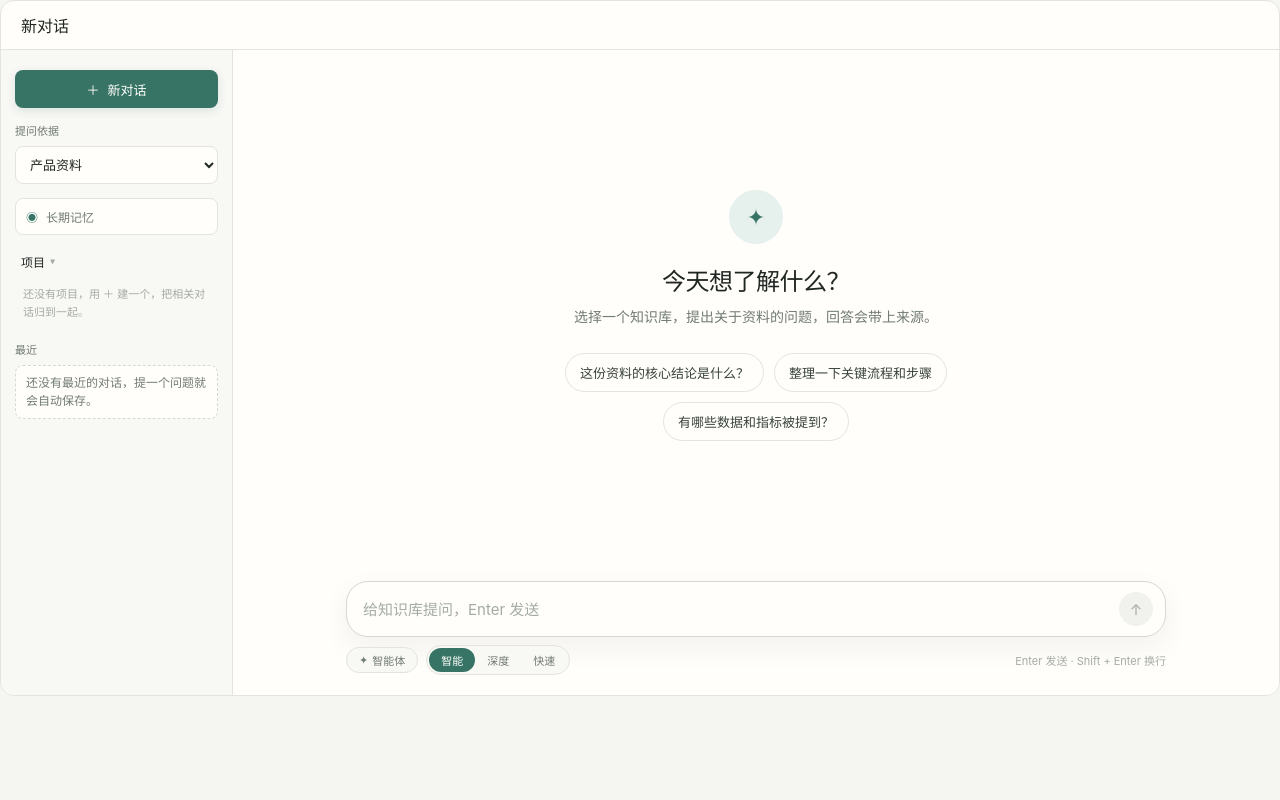
ChatView › sends agent mode and keeps the tool trace answer grounded
Click the button with class "composer__agent" at (382, 660), box [346,647,418,673]
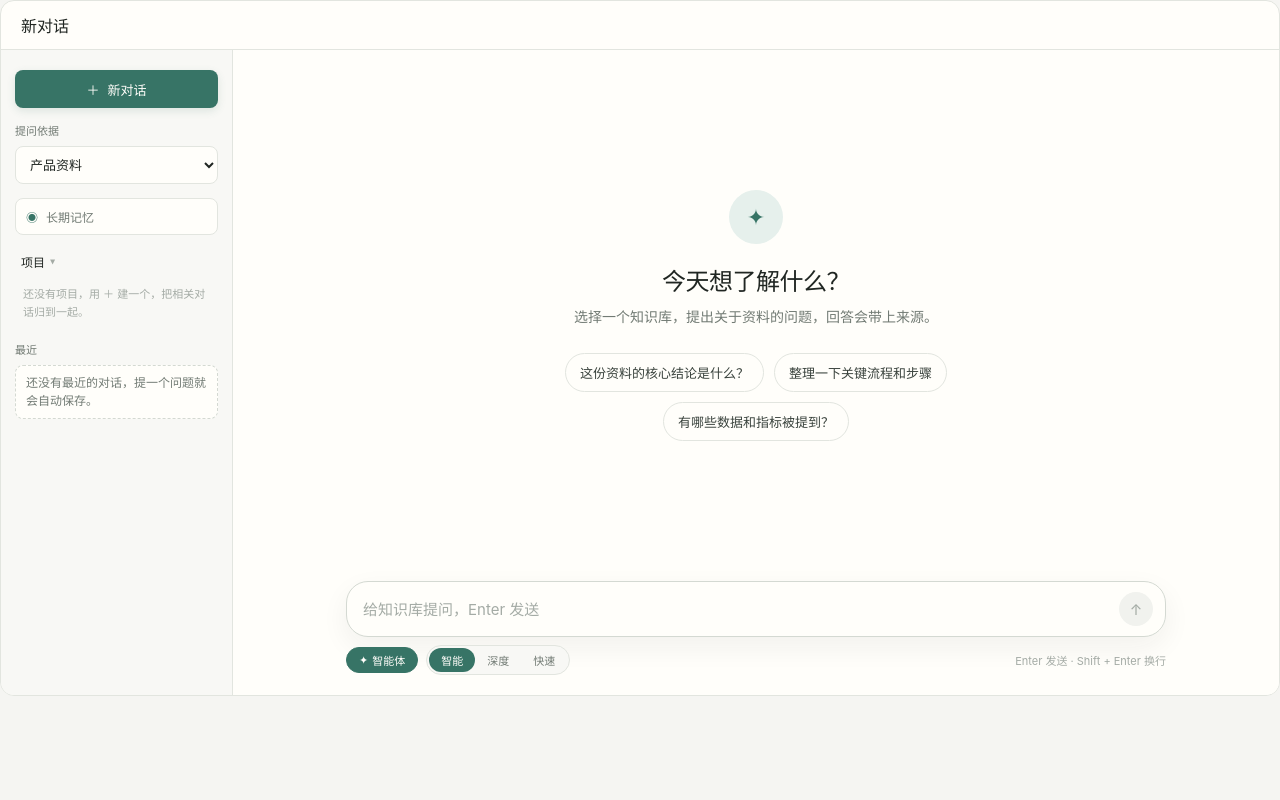
Type "各国 GDP 增长率是多少？" into the text box with placeholder "给知识库提问，Enter 发送" at (736, 609), box [363,592,1109,626]
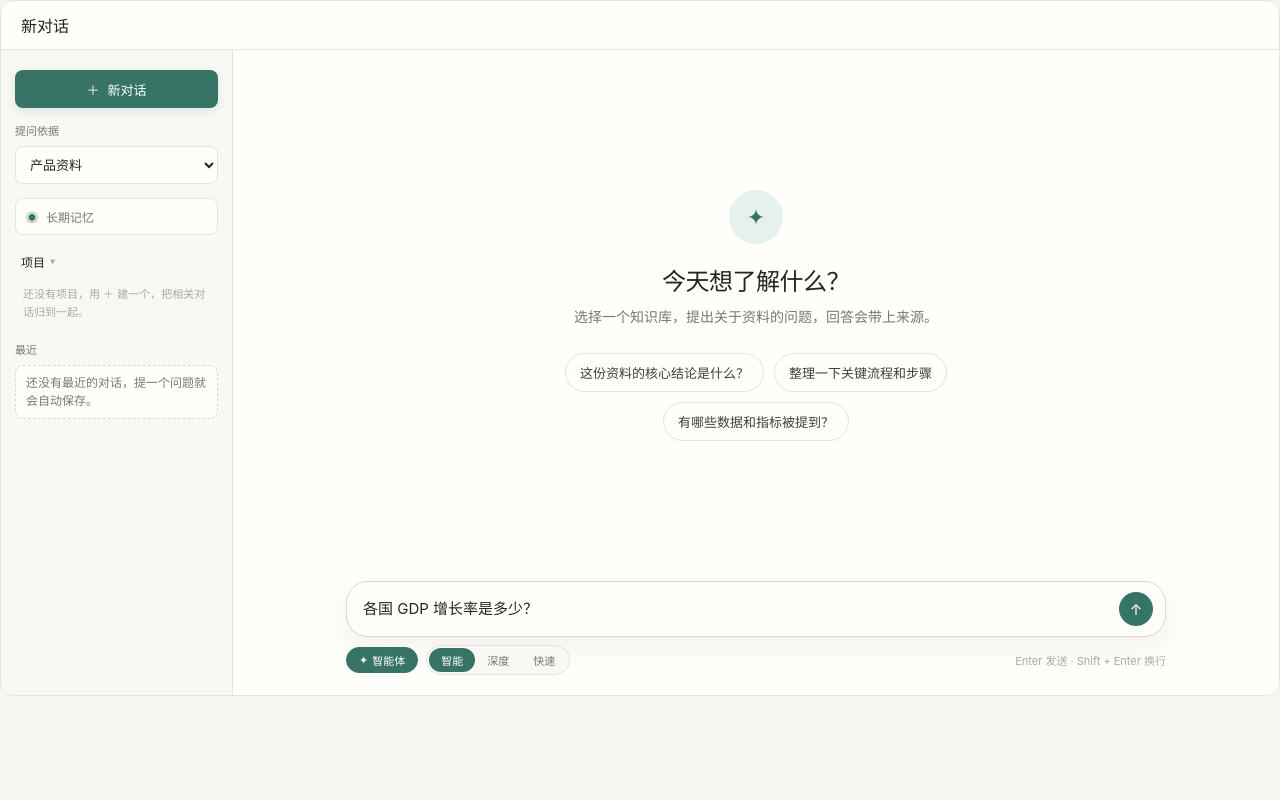
Press Enter in the text box named "输入问题", box [363,592,1109,626]
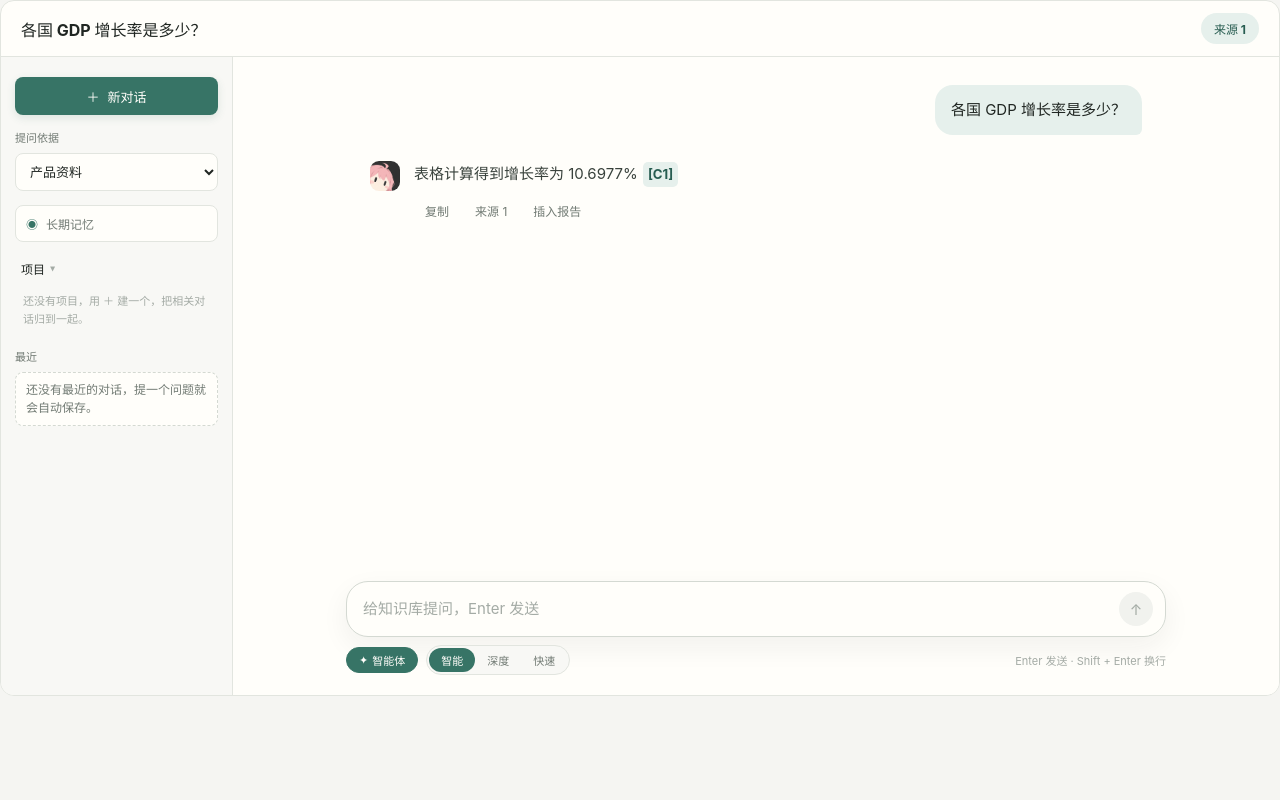
Result: the text "10.6977%" is shown at [414,164,642,182]
